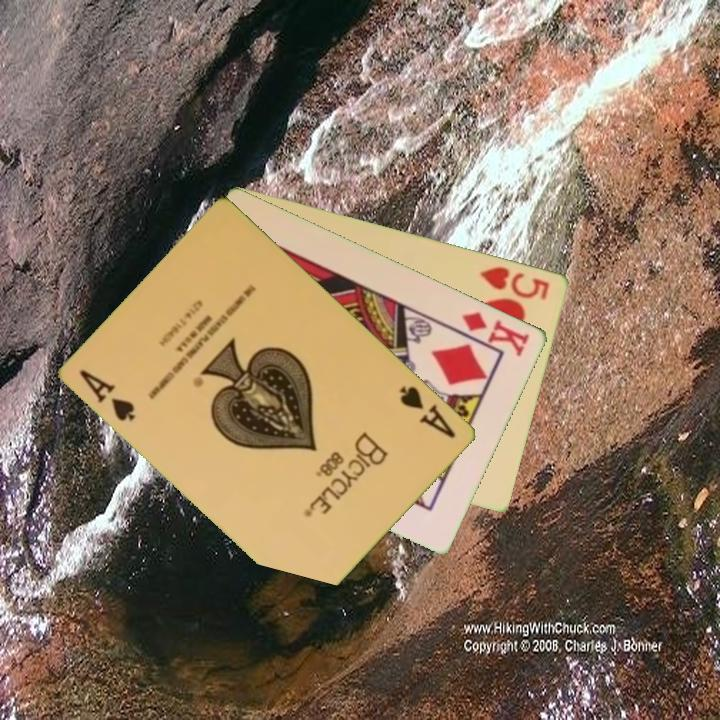5h: (476, 262, 553, 303)
As: (396, 382, 459, 442), (76, 366, 139, 424)
Kd: (450, 307, 533, 359)
